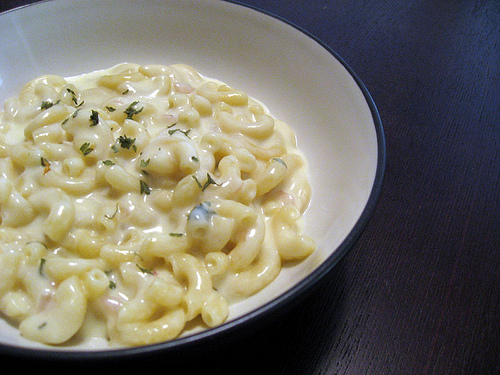macncheese: (4, 58, 313, 347)
